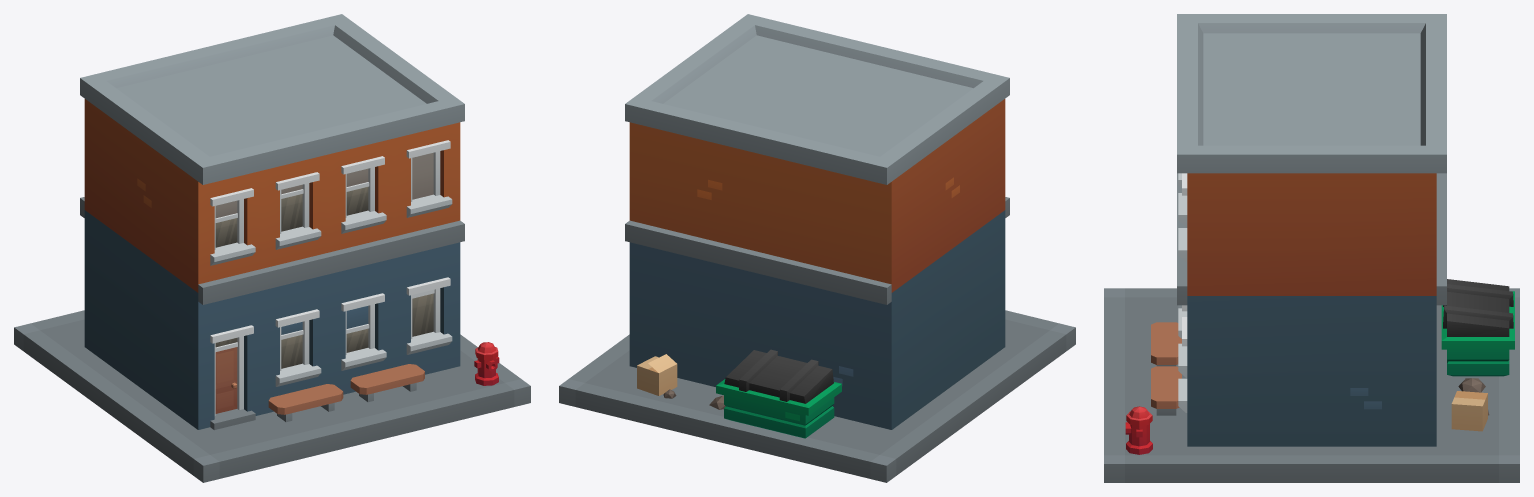
The model's file is building_B.obj.
3 renders of one model, left to right at view 1: azimuth 30°, elevation 25°; view 2: azimuth 150°, elevation 25°; view 3: azimuth 270°, elevation 25°, orthographic. The views are drawn at different scales.
Size of the model in its own units: 2 by 1.65 by 2.
1 material, 1 textured.
